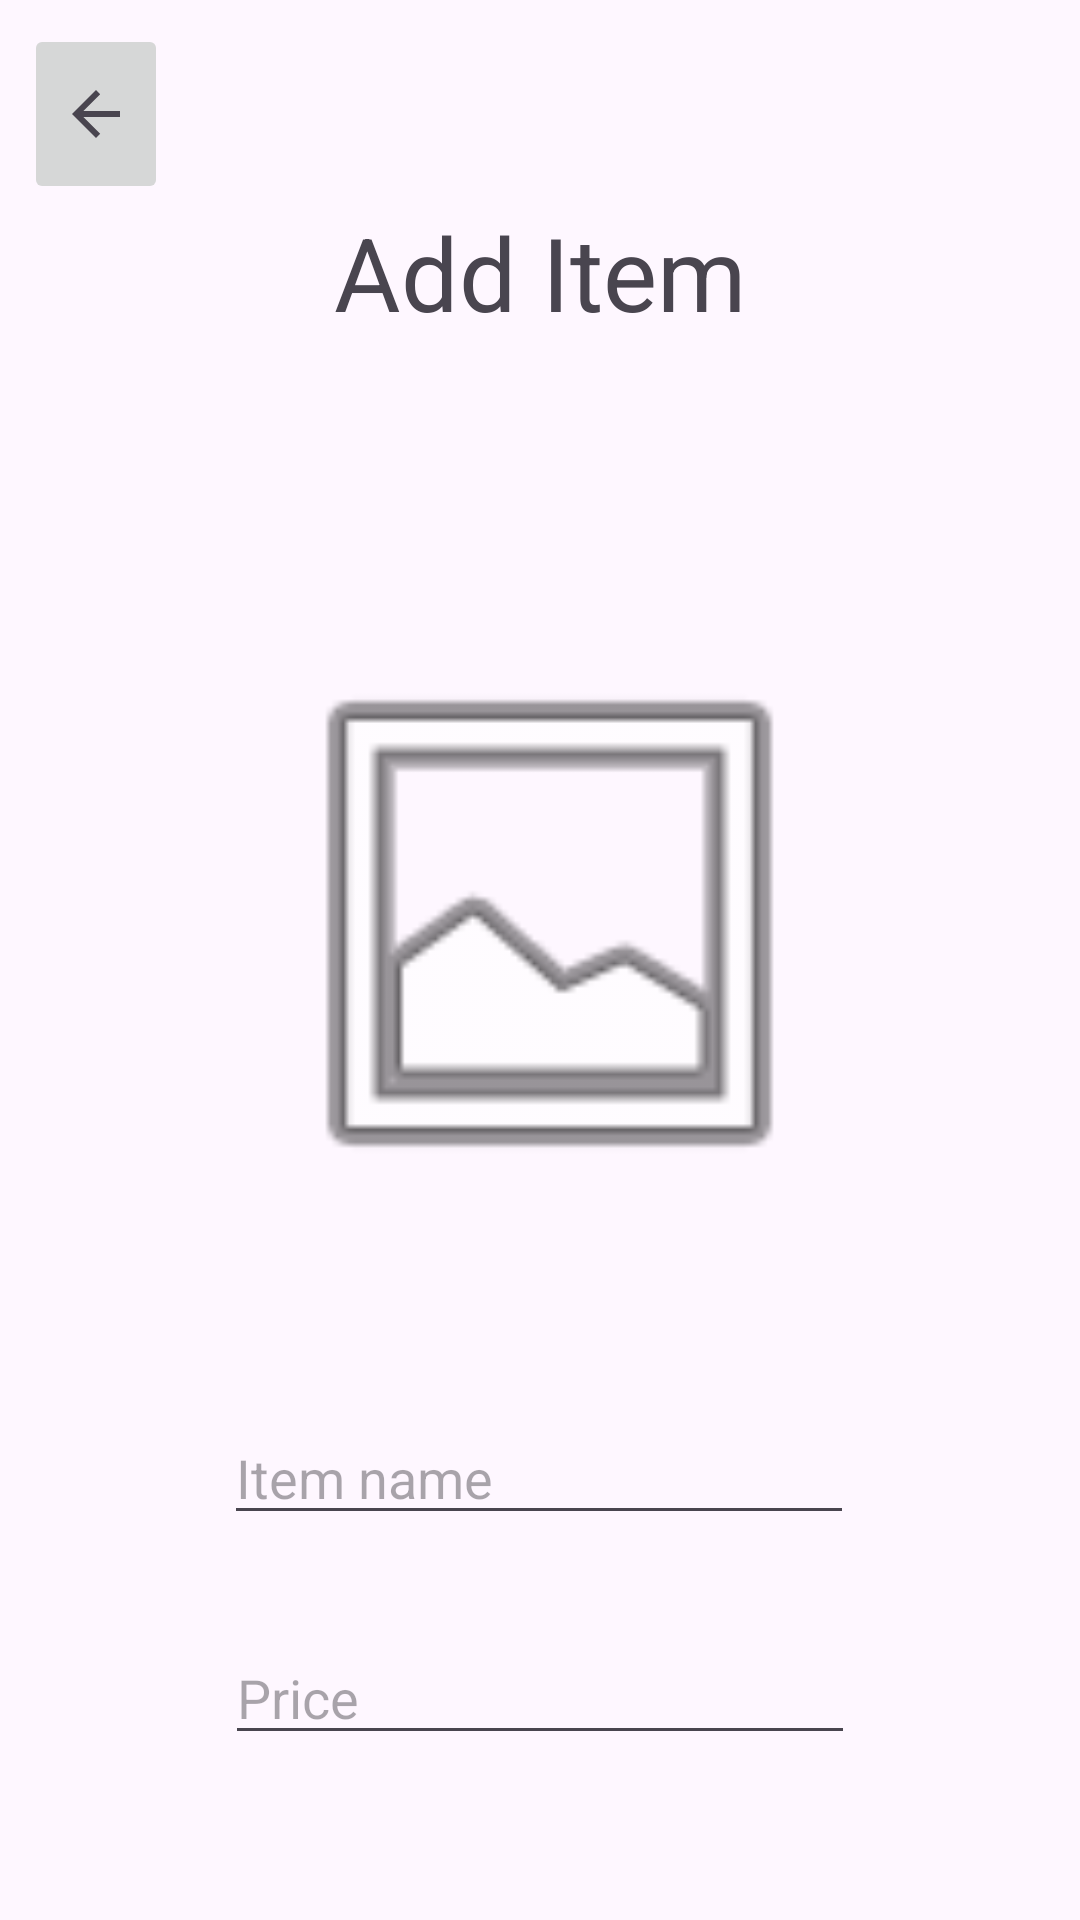

Icon bounding boxes for this 1080px x 1920px phone screenshot, format (x1, y1, x2, y2):
Back to Main: (36, 42, 156, 186)
